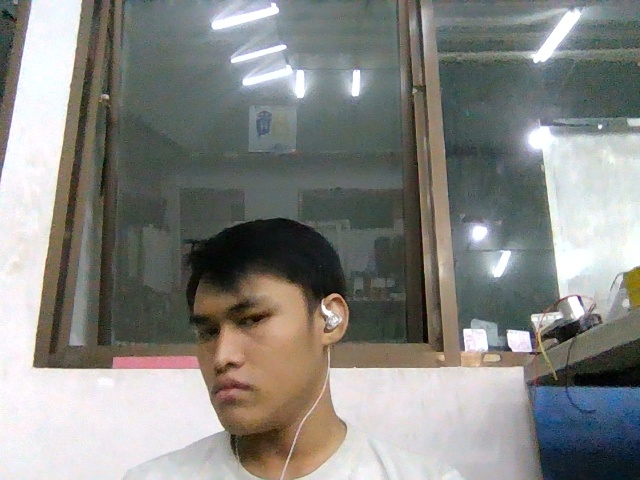mask_off: (201, 359, 319, 432)
